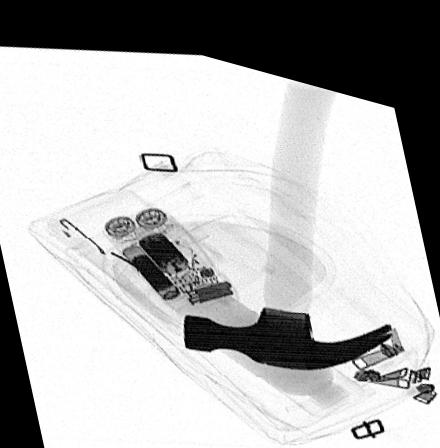Hammer: (181, 65, 393, 354)
